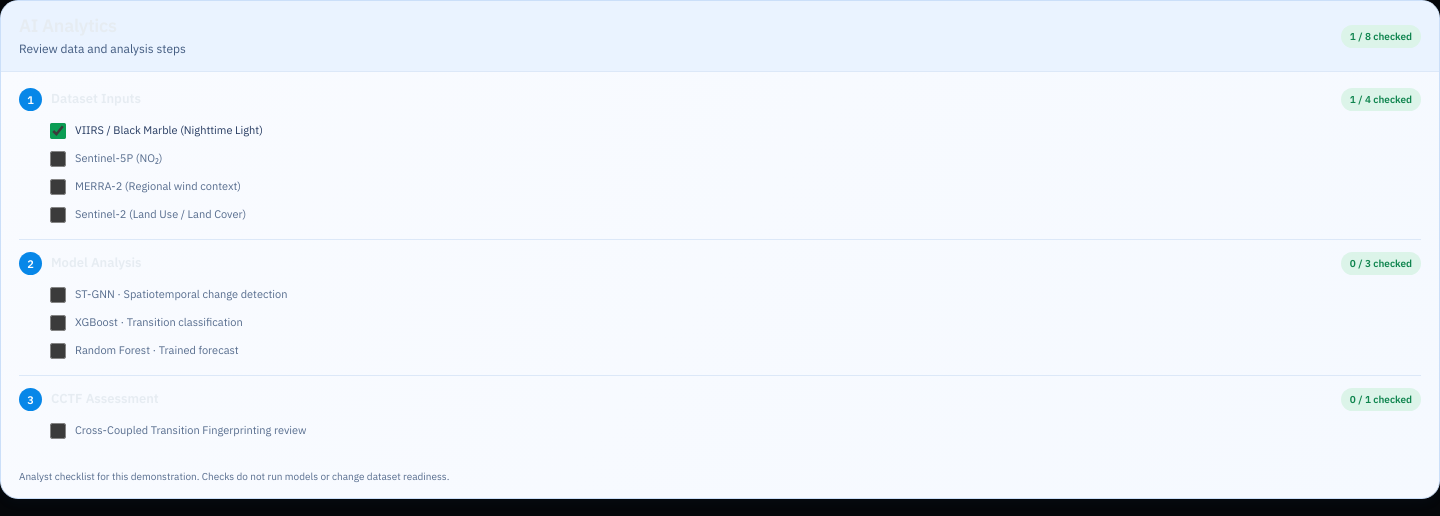
Test case: updates AI Analytics counts as checklist items are checked and unchecked
Expected: the message reads "1 / 8 checked", x1=1341 y1=25 x2=1421 y2=48
Click the checkbox labelled "ST-GNN · Spatiotemporal change detection": [58, 295] box x1=50 y1=287 x2=66 y2=303
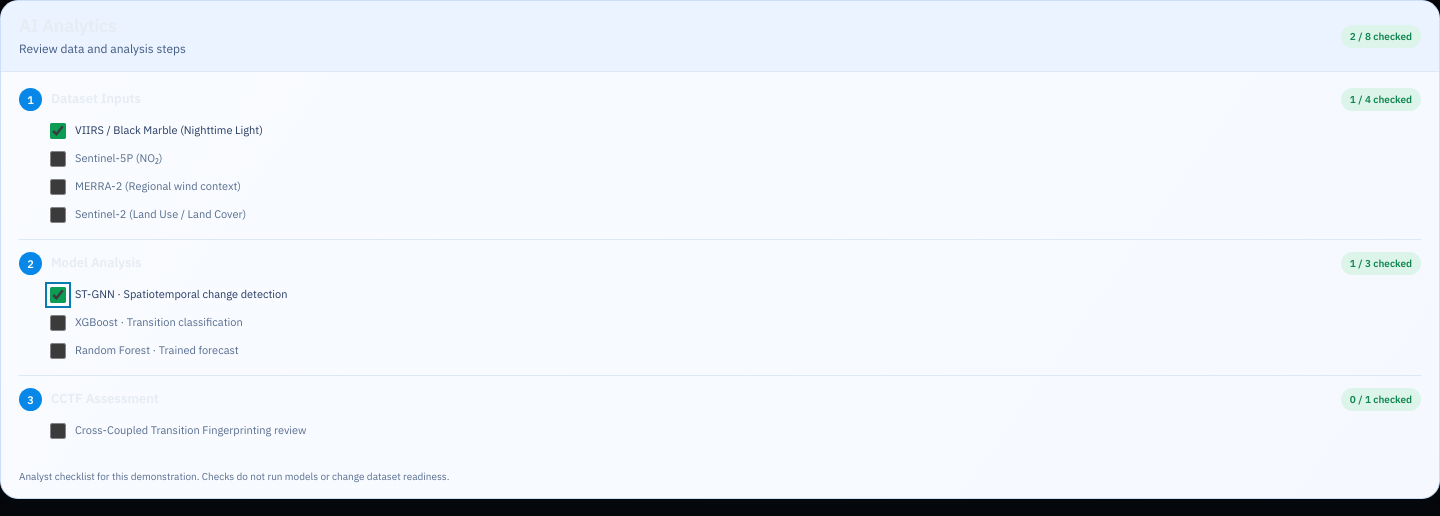
Expected: the checkbox labelled "ST-GNN · Spatiotemporal change detection" is checked
Expected: the message reads "2 / 8 checked", x1=1341 y1=25 x2=1421 y2=48
Click the checkbox labelled "ST-GNN · Spatiotemporal change detection": [58, 295] box x1=50 y1=287 x2=66 y2=303
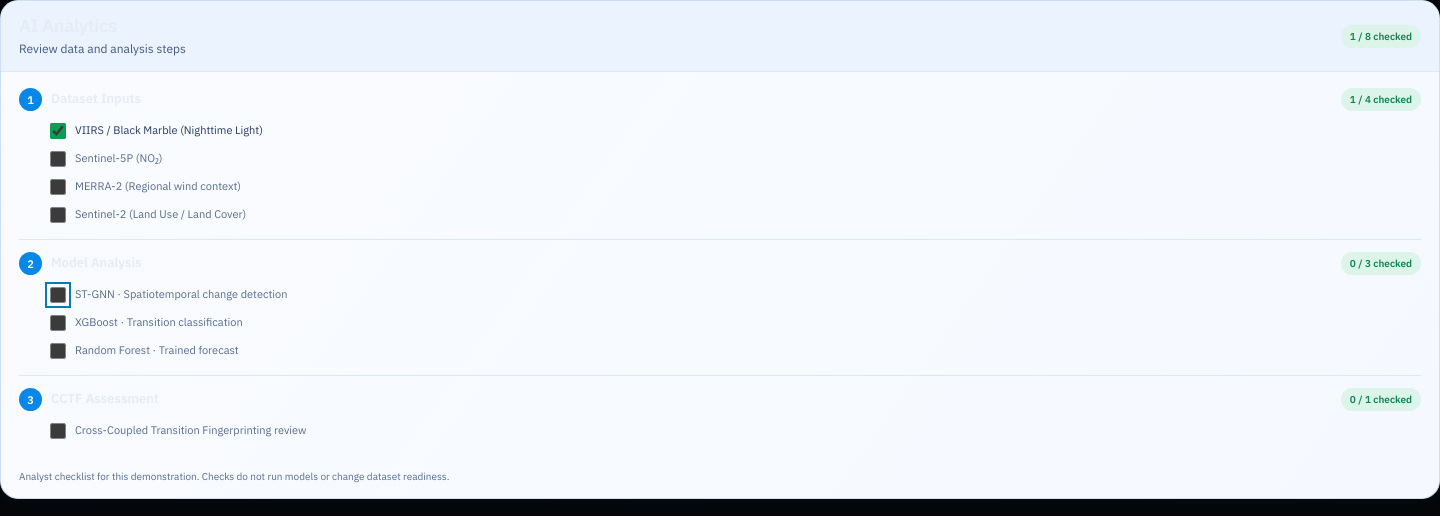
Expected: the checkbox labelled "ST-GNN · Spatiotemporal change detection" is not checked, x1=50 y1=287 x2=66 y2=303
Expected: the message reads "1 / 8 checked", x1=1341 y1=25 x2=1421 y2=48
